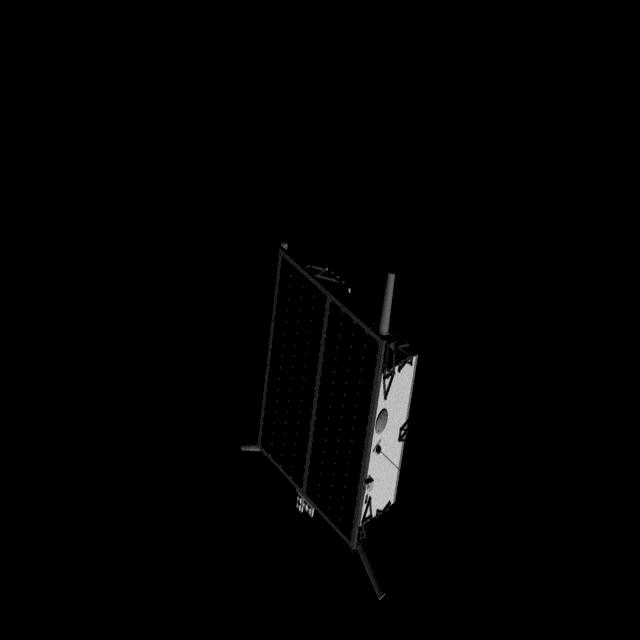satellite: (216, 238, 434, 606)
